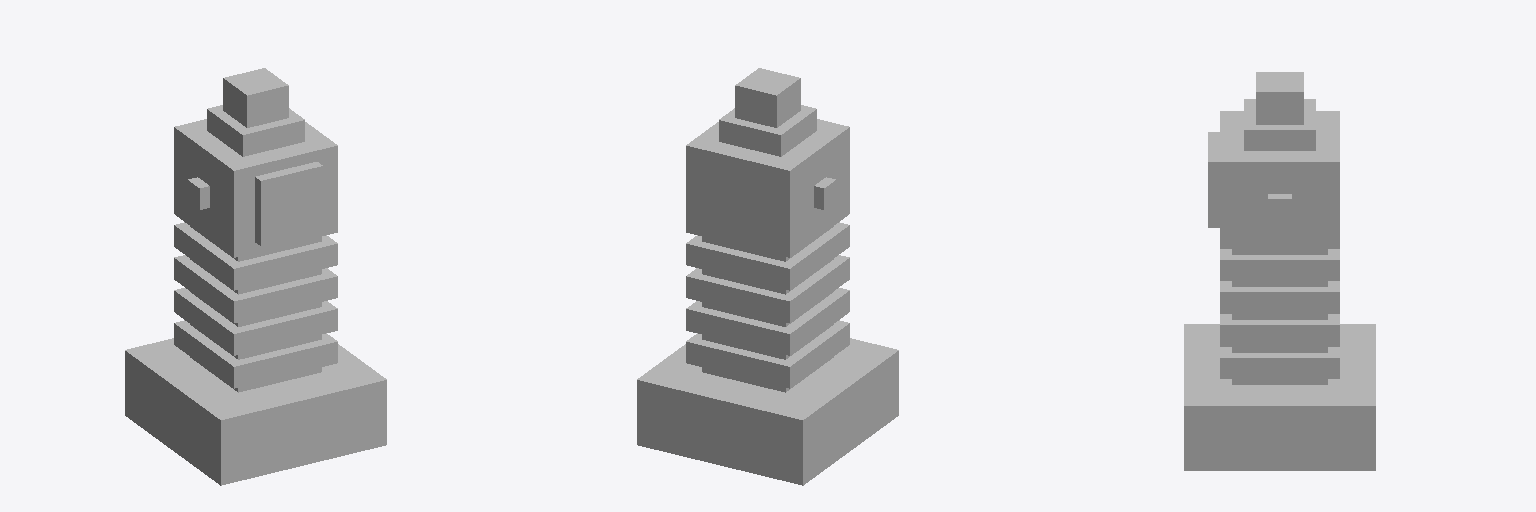
The picture shows the model from 3 angles: view 1: azimuth 30°, elevation 25°; view 2: azimuth 150°, elevation 25°; view 3: azimuth 270°, elevation 25°; orthographic projection.
Parts seen in each view (by area): view 1: base, cube; view 2: base, cube; view 3: base, cube.
Boxes of the visible parts, <box> form: base: <box>125,105,386,485</box>; cube: <box>223,68,288,127</box>; base: <box>637,105,898,485</box>; cube: <box>735,68,800,127</box>; base: <box>1184,99,1375,470</box>; cube: <box>1256,72,1303,124</box>.
Size of the model in its own units: 1 by 2 by 1.